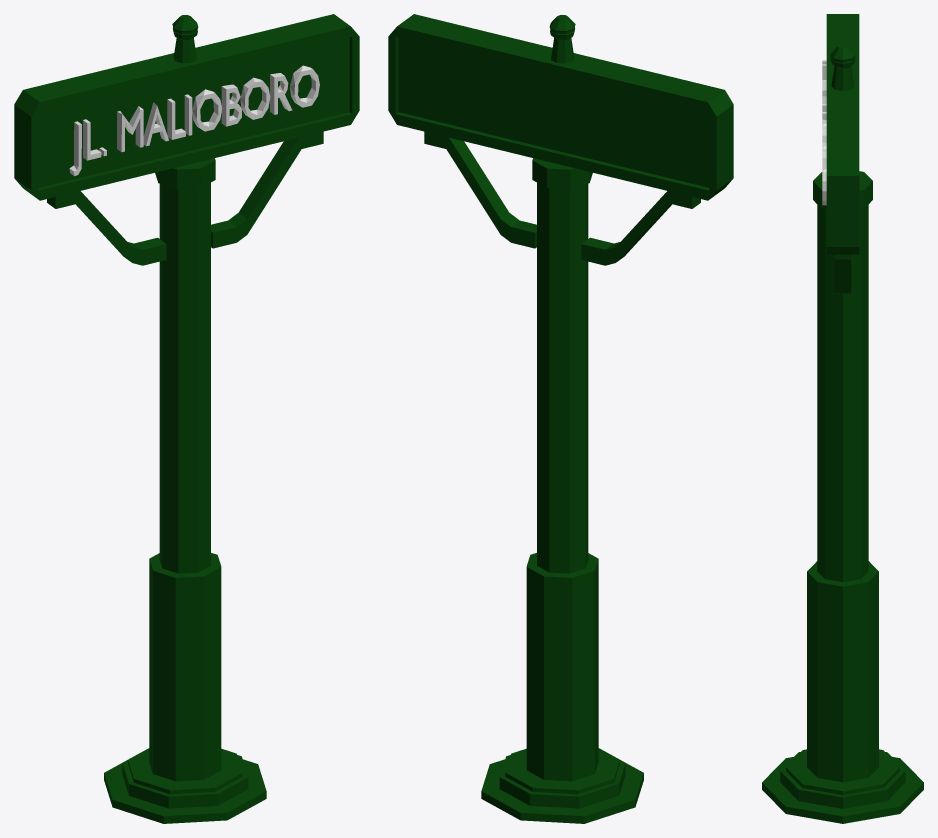
Rendered from Env_PlangMalioboro_01a.fbx.
The picture shows the model from 3 angles, left to right: view 1: azimuth 30°, elevation 25°; view 2: azimuth 150°, elevation 25°; view 3: azimuth 270°, elevation 25°; orthographic projection. The views are drawn at different scales.
Visible parts, largest first — view 1: Plang Malioboro; view 2: Plang Malioboro; view 3: Plang Malioboro.
Boxes of the visible parts, <box> form: Plang Malioboro: <box>14,14,359,823</box>; Plang Malioboro: <box>388,14,733,823</box>; Plang Malioboro: <box>762,14,923,823</box>.
Size of the model in its own units: 40.64 by 91.31 by 18.02.
